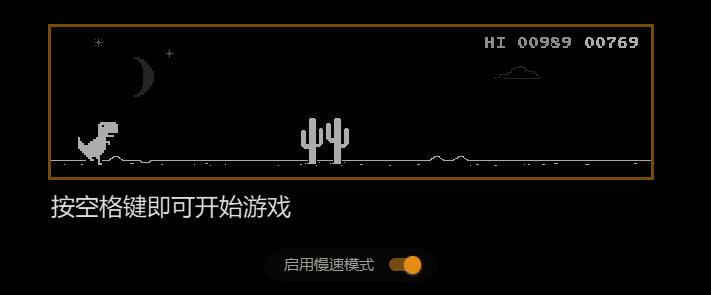cactus: (300, 117, 351, 166)
dino: (75, 120, 120, 165)
